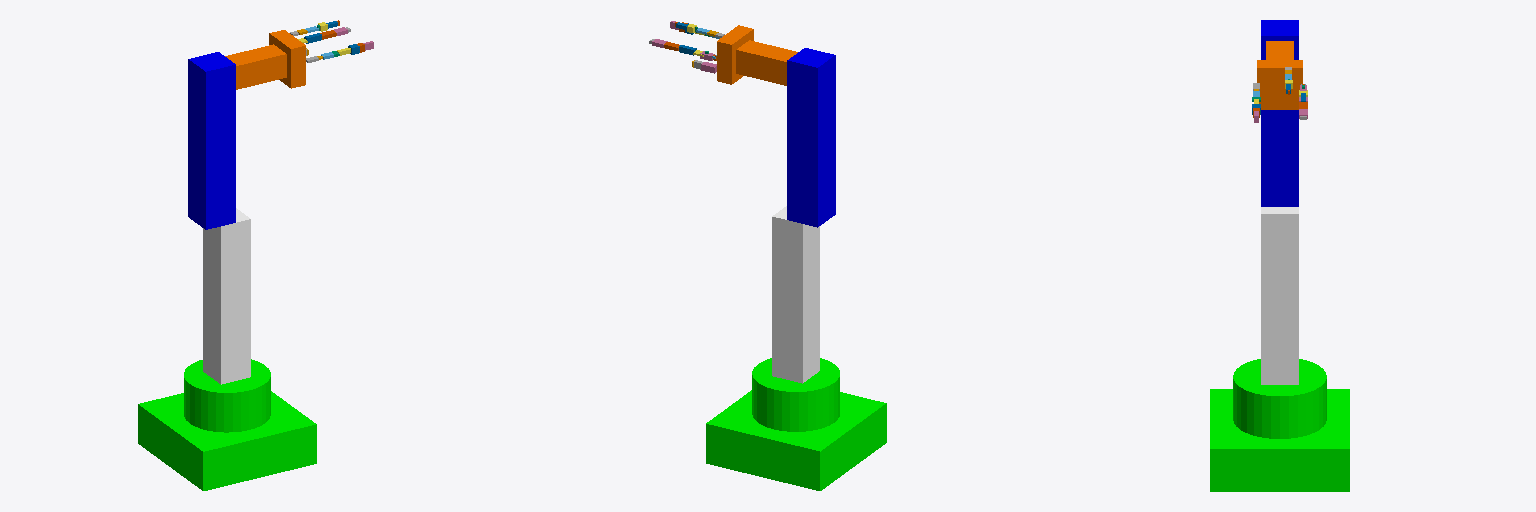
URDF robot description (robot):
<?xml version='1.0' encoding='utf-8'?>
<robot name="robot">
  <link name="base_link">
    <visual>
      <origin xyz="0 0 0.125" rpy="0 0 0" />
      <geometry>
        <box size="0.75 0.75 0.25" />
      </geometry>
      <material name="green" />
    </visual>
    <visual>
      <origin xyz="0 0 0.375" rpy="0 0 0" />
      <geometry>
        <cylinder length="0.25" radius="0.25" />
      </geometry>
      <material name="green">
        <color rgba="0 1 0 1" />
      </material>
    </visual>
    <collision>
      <geometry>
        <box size="0.75 0.75 0.5" />
      </geometry>
    </collision>
    <inertial>
      <mass value="0.5" />
      <inertia ixx="0.034" ixy="0.0" ixz="0.0" iyy="0.034" iyz="0.0" izz="0.034" />
    </inertial>
  </link>
  <link name="support_link">
    <visual>
      <origin xyz="0 0 0.5" rpy="0 0 0" />
      <geometry>
        <box size="0.2 0.2 1" />
      </geometry>
      <material name="white">
        <color rgba="1 1 1 1" />
      </material>
    </visual>
    <collision>
      <geometry>
        <box size="0.2 0.2 1" />
      </geometry>
    </collision>
    <inertial>
      <mass value="0.1" />
      <inertia ixx="0.01" ixy="0.0" ixz="0.0" iyy="0.01" iyz="0.0" izz="0.01" />
    </inertial>
  </link>
  <joint name="support_joint" type="continuous">
    <origin xyz="0 0 0.5" rpy="0 0 0" />
    <parent link="base_link" />
    <child link="support_link" />
    <axis xyz="0 0 1" />
  </joint>
  <link name="arm_link">
    <visual>
      <origin xyz="0 0 0.5" rpy="0 0 0" />
      <geometry>
        <box size="0.2 0.2 1" />
      </geometry>
      <material name="blue">
        <color rgba="0 0 1 1" />
      </material>
    </visual>
    <collision>
      <geometry>
        <box size="0.2 0.2 1" />
      </geometry>
    </collision>
    <inertial>
      <mass value="0.1" />
      <inertia ixx="0.01" ixy="0.0" ixz="0.0" iyy="0.01" iyz="0.0" izz="0.01" />
    </inertial>
  </link>
  <joint name="arm_joint" type="revolute">
    <origin xyz="-0.1 0 1" rpy="0 0 0" />
    <parent link="support_link" />
    <child link="arm_link" />
    <axis xyz="0 1 0" />
    <limit lower="-3.14" upper="3.14" effort="1.0" velocity="1.0" />
  </joint>
  <link name="wrist_link">
    <visual>
      <origin xyz="0 0 0.25" rpy="0 0 0" />
      <geometry>
        <box size="0.15 0.15 0.5" />
      </geometry>
      <material name="orange">
        <color rgba="1 0.5 0 1" />
      </material>
    </visual>
    <collision>
      <geometry>
        <box size="0.15 0.15 0.5" />
      </geometry>
    </collision>
    <inertial>
      <mass value="0.1" />
      <inertia ixx="0.01" ixy="0.0" ixz="0.0" iyy="0.01" iyz="0.0" izz="0.01" />
    </inertial>
  </link>
  <joint name="wrist_joint" type="fixed">
    <origin xyz="0 0 0.9" rpy="0 1.571 0" />
    <parent link="arm_link" />
    <child link="wrist_link" />
  </joint>
  <link name="palm_link">
    <visual>
      <origin xyz="0 0 0.05" rpy="0 0 0" />
      <geometry>
        <box size="0.25 0.25 0.1" />
      </geometry>
      <material name="orange" />
    </visual>
    <collision>
      <geometry>
        <box size="0.25 0.25 0.1" />
      </geometry>
    </collision>
    <inertial>
      <mass value="0.1" />
      <inertia ixx="0.01" ixy="0.0" ixz="0.0" iyy="0.01" iyz="0.0" izz="0.01" />
    </inertial>
  </link>
  <joint name="palm_joint" type="fixed">
    <origin xyz="0 0 0.45" rpy="0 0 0" />
    <parent link="wrist_link" />
    <child link="palm_link" />
  </joint>
  <link name="finger_link_0_0">
    <visual>
      <origin xyz="0 0 0.0105" rpy="0 0 0" />
      <geometry>
        <box size="0.029 0.011 0.021" />
      </geometry>
    </visual>
    <collision>
      <geometry>
        <box size="0.029 0.011 0.021" />
      </geometry>
    </collision>
    <inertial>
      <mass value="0.002" />
      <inertia ixx="0.0" iyy="0.0" izz="0.0" ixy="0" ixz="0" iyz="0" />
    </inertial>
  </link>
  <joint name="finger_joint_palm_link_to_finger_link_0_0" type="revolute">
    <origin xyz="-0.018 0.125 0.1" rpy="0 0 0" />
    <parent link="palm_link" />
    <child link="finger_link_0_0" />
    <axis xyz="-1.0 0.0 0.0" />
    <limit lower="-3.142" upper="3.142" effort="10" velocity="10" />
  </joint>
  <link name="finger_link_0_1">
    <visual>
      <origin xyz="0 0 0.037" rpy="0 0 0" />
      <geometry>
        <box size="0.031 0.037 0.074" />
      </geometry>
    </visual>
    <collision>
      <geometry>
        <box size="0.031 0.037 0.074" />
      </geometry>
    </collision>
    <inertial>
      <mass value="0.025" />
      <inertia ixx="0.0" iyy="0.0" izz="0.0" ixy="0" ixz="0" iyz="0" />
    </inertial>
  </link>
  <joint name="finger_joint_finger_link_0_0_to_finger_link_0_1" type="revolute">
    <origin xyz="0.0 0.0 0.021" rpy="0 0 0" />
    <parent link="finger_link_0_0" />
    <child link="finger_link_0_1" />
    <axis xyz="0.0 1.0 0.0" />
    <limit lower="-3.142" upper="3.142" effort="10" velocity="10" />
  </joint>
  <link name="finger_link_1_0">
    <visual>
      <origin xyz="0 0 0.037" rpy="0 0 0" />
      <geometry>
        <box size="0.015 0.037 0.074" />
      </geometry>
    </visual>
    <collision>
      <geometry>
        <box size="0.015 0.037 0.074" />
      </geometry>
    </collision>
    <inertial>
      <mass value="0.012" />
      <inertia ixx="0.0" iyy="0.0" izz="0.0" ixy="0" ixz="0" iyz="0" />
    </inertial>
  </link>
  <joint name="finger_joint_palm_link_to_finger_link_1_0" type="revolute">
    <origin xyz="-0.027 -0.125 0.1" rpy="0 0 0" />
    <parent link="palm_link" />
    <child link="finger_link_1_0" />
    <axis xyz="1.0 0.0 0.0" />
    <limit lower="-3.142" upper="3.142" effort="10" velocity="10" />
  </joint>
  <link name="finger_link_1_1">
    <visual>
      <origin xyz="0 0 0.0155" rpy="0 0 0" />
      <geometry>
        <box size="0.012 0.026 0.031" />
      </geometry>
    </visual>
    <collision>
      <geometry>
        <box size="0.012 0.026 0.031" />
      </geometry>
    </collision>
    <inertial>
      <mass value="0.003" />
      <inertia ixx="0.0" iyy="0.0" izz="0.0" ixy="0" ixz="0" iyz="0" />
    </inertial>
  </link>
  <joint name="finger_joint_finger_link_1_0_to_finger_link_1_1" type="revolute">
    <origin xyz="0.0 0.0 0.074" rpy="0 0 0" />
    <parent link="finger_link_1_0" />
    <child link="finger_link_1_1" />
    <axis xyz="1.0 0.0 0.0" />
    <limit lower="-3.142" upper="3.142" effort="10" velocity="10" />
  </joint>
  <link name="finger_link_1_2">
    <visual>
      <origin xyz="0 0 0.034" rpy="0 0 0" />
      <geometry>
        <box size="0.019 0.038 0.068" />
      </geometry>
    </visual>
    <collision>
      <geometry>
        <box size="0.019 0.038 0.068" />
      </geometry>
    </collision>
    <inertial>
      <mass value="0.015" />
      <inertia ixx="0.0" iyy="0.0" izz="0.0" ixy="0" ixz="0" iyz="0" />
    </inertial>
  </link>
  <joint name="finger_joint_finger_link_1_1_to_finger_link_1_2" type="revolute">
    <origin xyz="0.0 0.0 0.031" rpy="0 0 0" />
    <parent link="finger_link_1_1" />
    <child link="finger_link_1_2" />
    <axis xyz="0.0 1.0 0.0" />
    <limit lower="-3.142" upper="3.142" effort="10" velocity="10" />
  </joint>
  <link name="finger_link_1_3">
    <visual>
      <origin xyz="0 0 0.017" rpy="0 0 0" />
      <geometry>
        <box size="0.016 0.045 0.034" />
      </geometry>
    </visual>
    <collision>
      <geometry>
        <box size="0.016 0.045 0.034" />
      </geometry>
    </collision>
    <inertial>
      <mass value="0.007" />
      <inertia ixx="0.0" iyy="0.0" izz="0.0" ixy="0" ixz="0" iyz="0" />
    </inertial>
  </link>
  <joint name="finger_joint_finger_link_1_2_to_finger_link_1_3" type="revolute">
    <origin xyz="0.0 0.0 0.068" rpy="0 0 0" />
    <parent link="finger_link_1_2" />
    <child link="finger_link_1_3" />
    <axis xyz="0.0 1.0 0.0" />
    <limit lower="-3.142" upper="3.142" effort="10" velocity="10" />
  </joint>
  <link name="finger_link_1_4">
    <visual>
      <origin xyz="0 0 0.042" rpy="0 0 0" />
      <geometry>
        <box size="0.026 0.026 0.084" />
      </geometry>
    </visual>
    <collision>
      <geometry>
        <box size="0.026 0.026 0.084" />
      </geometry>
    </collision>
    <inertial>
      <mass value="0.017" />
      <inertia ixx="0.0" iyy="0.0" izz="0.0" ixy="0" ixz="0" iyz="0" />
    </inertial>
  </link>
  <joint name="finger_joint_finger_link_1_3_to_finger_link_1_4" type="revolute">
    <origin xyz="0.0 0.0 0.034" rpy="0 0 0" />
    <parent link="finger_link_1_3" />
    <child link="finger_link_1_4" />
    <axis xyz="1.0 0.0 0.0" />
    <limit lower="-3.142" upper="3.142" effort="10" velocity="10" />
  </joint>
  <link name="finger_link_1_5">
    <visual>
      <origin xyz="0 0 0.0245" rpy="0 0 0" />
      <geometry>
        <box size="0.043 0.043 0.049" />
      </geometry>
    </visual>
    <collision>
      <geometry>
        <box size="0.043 0.043 0.049" />
      </geometry>
    </collision>
    <inertial>
      <mass value="0.027" />
      <inertia ixx="0.0" iyy="0.0" izz="0.0" ixy="0" ixz="0" iyz="0" />
    </inertial>
  </link>
  <joint name="finger_joint_finger_link_1_4_to_finger_link_1_5" type="revolute">
    <origin xyz="0.0 0.0 0.084" rpy="0 0 0" />
    <parent link="finger_link_1_4" />
    <child link="finger_link_1_5" />
    <axis xyz="1.0 0.0 0.0" />
    <limit lower="-3.142" upper="3.142" effort="10" velocity="10" />
  </joint>
  <link name="finger_link_1_6">
    <visual>
      <origin xyz="0 0 0.019" rpy="0 0 0" />
      <geometry>
        <box size="0.044 0.036 0.038" />
      </geometry>
    </visual>
    <collision>
      <geometry>
        <box size="0.044 0.036 0.038" />
      </geometry>
    </collision>
    <inertial>
      <mass value="0.018" />
      <inertia ixx="0.0" iyy="0.0" izz="0.0" ixy="0" ixz="0" iyz="0" />
    </inertial>
  </link>
  <joint name="finger_joint_finger_link_1_5_to_finger_link_1_6" type="revolute">
    <origin xyz="0.0 0.0 0.049" rpy="0 0 0" />
    <parent link="finger_link_1_5" />
    <child link="finger_link_1_6" />
    <axis xyz="1.0 0.0 0.0" />
    <limit lower="-3.142" upper="3.142" effort="10" velocity="10" />
  </joint>
  <link name="finger_link_1_7">
    <visual>
      <origin xyz="0 0 0.032" rpy="0 0 0" />
      <geometry>
        <box size="0.04 0.022 0.064" />
      </geometry>
    </visual>
    <collision>
      <geometry>
        <box size="0.04 0.022 0.064" />
      </geometry>
    </collision>
    <inertial>
      <mass value="0.017" />
      <inertia ixx="0.0" iyy="0.0" izz="0.0" ixy="0" ixz="0" iyz="0" />
    </inertial>
  </link>
  <joint name="finger_joint_finger_link_1_6_to_finger_link_1_7" type="revolute">
    <origin xyz="0.0 0.0 0.038" rpy="0 0 0" />
    <parent link="finger_link_1_6" />
    <child link="finger_link_1_7" />
    <axis xyz="0.0 1.0 0.0" />
    <limit lower="-3.142" upper="3.142" effort="10" velocity="10" />
  </joint>
  <link name="finger_link_2_0">
    <visual>
      <origin xyz="0 0 0.0215" rpy="0 0 0" />
      <geometry>
        <box size="0.012 0.035 0.043" />
      </geometry>
    </visual>
    <collision>
      <geometry>
        <box size="0.012 0.035 0.043" />
      </geometry>
    </collision>
    <inertial>
      <mass value="0.005" />
      <inertia ixx="0.0" iyy="0.0" izz="0.0" ixy="0" ixz="0" iyz="0" />
    </inertial>
  </link>
  <joint name="finger_joint_palm_link_to_finger_link_2_0" type="revolute">
    <origin xyz="-0.125 0.046 0.1" rpy="0 0 0" />
    <parent link="palm_link" />
    <child link="finger_link_2_0" />
    <axis xyz="0.0 -1.0 0.0" />
    <limit lower="-3.142" upper="3.142" effort="10" velocity="10" />
  </joint>
  <link name="finger_link_2_1">
    <visual>
      <origin xyz="0 0 0.027" rpy="0 0 0" />
      <geometry>
        <box size="0.014 0.039 0.054" />
      </geometry>
    </visual>
    <collision>
      <geometry>
        <box size="0.014 0.039 0.054" />
      </geometry>
    </collision>
    <inertial>
      <mass value="0.009" />
      <inertia ixx="0.0" iyy="0.0" izz="0.0" ixy="0" ixz="0" iyz="0" />
    </inertial>
  </link>
  <joint name="finger_joint_finger_link_2_0_to_finger_link_2_1" type="revolute">
    <origin xyz="0.0 0.0 0.043" rpy="0 0 0" />
    <parent link="finger_link_2_0" />
    <child link="finger_link_2_1" />
    <axis xyz="1.0 0.0 0.0" />
    <limit lower="-3.142" upper="3.142" effort="10" velocity="10" />
  </joint>
  <link name="finger_link_2_2">
    <visual>
      <origin xyz="0 0 0.0365" rpy="0 0 0" />
      <geometry>
        <box size="0.013 0.037 0.073" />
      </geometry>
    </visual>
    <collision>
      <geometry>
        <box size="0.013 0.037 0.073" />
      </geometry>
    </collision>
    <inertial>
      <mass value="0.011" />
      <inertia ixx="0.0" iyy="0.0" izz="0.0" ixy="0" ixz="0" iyz="0" />
    </inertial>
  </link>
  <joint name="finger_joint_finger_link_2_1_to_finger_link_2_2" type="revolute">
    <origin xyz="0.0 0.0 0.054" rpy="0 0 0" />
    <parent link="finger_link_2_1" />
    <child link="finger_link_2_2" />
    <axis xyz="0.0 1.0 0.0" />
    <limit lower="-3.142" upper="3.142" effort="10" velocity="10" />
  </joint>
  <link name="finger_link_2_3">
    <visual>
      <origin xyz="0 0 0.0075" rpy="0 0 0" />
      <geometry>
        <box size="0.032 0.011 0.015" />
      </geometry>
    </visual>
    <collision>
      <geometry>
        <box size="0.032 0.011 0.015" />
      </geometry>
    </collision>
    <inertial>
      <mass value="0.002" />
      <inertia ixx="0.0" iyy="0.0" izz="0.0" ixy="0" ixz="0" iyz="0" />
    </inertial>
  </link>
  <joint name="finger_joint_finger_link_2_2_to_finger_link_2_3" type="revolute">
    <origin xyz="0.0 0.0 0.073" rpy="0 0 0" />
    <parent link="finger_link_2_2" />
    <child link="finger_link_2_3" />
    <axis xyz="1.0 0.0 0.0" />
    <limit lower="-3.142" upper="3.142" effort="10" velocity="10" />
  </joint>
  <link name="finger_link_2_4">
    <visual>
      <origin xyz="0 0 0.022" rpy="0 0 0" />
      <geometry>
        <box size="0.035 0.042 0.044" />
      </geometry>
    </visual>
    <collision>
      <geometry>
        <box size="0.035 0.042 0.044" />
      </geometry>
    </collision>
    <inertial>
      <mass value="0.019" />
      <inertia ixx="0.0" iyy="0.0" izz="0.0" ixy="0" ixz="0" iyz="0" />
    </inertial>
  </link>
  <joint name="finger_joint_finger_link_2_3_to_finger_link_2_4" type="revolute">
    <origin xyz="0.0 0.0 0.015" rpy="0 0 0" />
    <parent link="finger_link_2_3" />
    <child link="finger_link_2_4" />
    <axis xyz="0.0 1.0 0.0" />
    <limit lower="-3.142" upper="3.142" effort="10" velocity="10" />
  </joint>
  <link name="finger_link_2_5">
    <visual>
      <origin xyz="0 0 0.037" rpy="0 0 0" />
      <geometry>
        <box size="0.023 0.029 0.074" />
      </geometry>
    </visual>
    <collision>
      <geometry>
        <box size="0.023 0.029 0.074" />
      </geometry>
    </collision>
    <inertial>
      <mass value="0.015" />
      <inertia ixx="0.0" iyy="0.0" izz="0.0" ixy="0" ixz="0" iyz="0" />
    </inertial>
  </link>
  <joint name="finger_joint_finger_link_2_4_to_finger_link_2_5" type="revolute">
    <origin xyz="0.0 0.0 0.044" rpy="0 0 0" />
    <parent link="finger_link_2_4" />
    <child link="finger_link_2_5" />
    <axis xyz="1.0 0.0 0.0" />
    <limit lower="-3.142" upper="3.142" effort="10" velocity="10" />
  </joint>
  <link name="finger_link_2_6">
    <visual>
      <origin xyz="0 0 0.006" rpy="0 0 0" />
      <geometry>
        <box size="0.027 0.012 0.012" />
      </geometry>
    </visual>
    <collision>
      <geometry>
        <box size="0.027 0.012 0.012" />
      </geometry>
    </collision>
    <inertial>
      <mass value="0.001" />
      <inertia ixx="0.0" iyy="0.0" izz="0.0" ixy="0" ixz="0" iyz="0" />
    </inertial>
  </link>
  <joint name="finger_joint_finger_link_2_5_to_finger_link_2_6" type="revolute">
    <origin xyz="0.0 0.0 0.074" rpy="0 0 0" />
    <parent link="finger_link_2_5" />
    <child link="finger_link_2_6" />
    <axis xyz="0.0 1.0 0.0" />
    <limit lower="-3.142" upper="3.142" effort="10" velocity="10" />
  </joint>
  <link name="finger_link_3_0">
    <visual>
      <origin xyz="0 0 0.0445" rpy="0 0 0" />
      <geometry>
        <box size="0.038 0.044 0.089" />
      </geometry>
    </visual>
    <collision>
      <geometry>
        <box size="0.038 0.044 0.089" />
      </geometry>
    </collision>
    <inertial>
      <mass value="0.045" />
      <inertia ixx="0.0" iyy="0.0" izz="0.0" ixy="0" ixz="0" iyz="0" />
    </inertial>
  </link>
  <joint name="finger_joint_palm_link_to_finger_link_3_0" type="revolute">
    <origin xyz="0.05 0.125 0.1" rpy="0 0 0" />
    <parent link="palm_link" />
    <child link="finger_link_3_0" />
    <axis xyz="-1.0 0.0 0.0" />
    <limit lower="-3.142" upper="3.142" effort="10" velocity="10" />
  </joint>
  <link name="finger_link_3_1">
    <visual>
      <origin xyz="0 0 0.0265" rpy="0 0 0" />
      <geometry>
        <box size="0.039 0.028 0.053" />
      </geometry>
    </visual>
    <collision>
      <geometry>
        <box size="0.039 0.028 0.053" />
      </geometry>
    </collision>
    <inertial>
      <mass value="0.017" />
      <inertia ixx="0.0" iyy="0.0" izz="0.0" ixy="0" ixz="0" iyz="0" />
    </inertial>
  </link>
  <joint name="finger_joint_finger_link_3_0_to_finger_link_3_1" type="revolute">
    <origin xyz="0.0 0.0 0.089" rpy="0 0 0" />
    <parent link="finger_link_3_0" />
    <child link="finger_link_3_1" />
    <axis xyz="0.0 1.0 0.0" />
    <limit lower="-3.142" upper="3.142" effort="10" velocity="10" />
  </joint>
  <link name="finger_link_3_2">
    <visual>
      <origin xyz="0 0 0.0055" rpy="0 0 0" />
      <geometry>
        <box size="0.033 0.032 0.011" />
      </geometry>
    </visual>
    <collision>
      <geometry>
        <box size="0.033 0.032 0.011" />
      </geometry>
    </collision>
    <inertial>
      <mass value="0.003" />
      <inertia ixx="0.0" iyy="0.0" izz="0.0" ixy="0" ixz="0" iyz="0" />
    </inertial>
  </link>
  <joint name="finger_joint_finger_link_3_1_to_finger_link_3_2" type="revolute">
    <origin xyz="0.0 0.0 0.053" rpy="0 0 0" />
    <parent link="finger_link_3_1" />
    <child link="finger_link_3_2" />
    <axis xyz="0.0 1.0 0.0" />
    <limit lower="-3.142" upper="3.142" effort="10" velocity="10" />
  </joint>
  <link name="finger_link_4_0">
    <visual>
      <origin xyz="0 0 0.0255" rpy="0 0 0" />
      <geometry>
        <box size="0.012 0.024 0.051" />
      </geometry>
    </visual>
    <collision>
      <geometry>
        <box size="0.012 0.024 0.051" />
      </geometry>
    </collision>
    <inertial>
      <mass value="0.004" />
      <inertia ixx="0.0" iyy="0.0" izz="0.0" ixy="0" ixz="0" iyz="0" />
    </inertial>
  </link>
  <joint name="finger_joint_palm_link_to_finger_link_4_0" type="revolute">
    <origin xyz="-0.025 0.125 0.1" rpy="0 0 0" />
    <parent link="palm_link" />
    <child link="finger_link_4_0" />
    <axis xyz="-1.0 0.0 0.0" />
    <limit lower="-3.142" upper="3.142" effort="10" velocity="10" />
  </joint>
  <link name="finger_link_4_1">
    <visual>
      <origin xyz="0 0 0.0115" rpy="0 0 0" />
      <geometry>
        <box size="0.045 0.012 0.023" />
      </geometry>
    </visual>
    <collision>
      <geometry>
        <box size="0.045 0.012 0.023" />
      </geometry>
    </collision>
    <inertial>
      <mass value="0.004" />
      <inertia ixx="0.0" iyy="0.0" izz="0.0" ixy="0" ixz="0" iyz="0" />
    </inertial>
  </link>
  <joint name="finger_joint_finger_link_4_0_to_finger_link_4_1" type="revolute">
    <origin xyz="0.0 0.0 0.051" rpy="0 0 0" />
    <parent link="finger_link_4_0" />
    <child link="finger_link_4_1" />
    <axis xyz="1.0 0.0 0.0" />
    <limit lower="-3.142" upper="3.142" effort="10" velocity="10" />
  </joint>
  <link name="finger_link_4_2">
    <visual>
      <origin xyz="0 0 0.0325" rpy="0 0 0" />
      <geometry>
        <box size="0.011 0.046 0.065" />
      </geometry>
    </visual>
    <collision>
      <geometry>
        <box size="0.011 0.046 0.065" />
      </geometry>
    </collision>
    <inertial>
      <mass value="0.01" />
      <inertia ixx="0.0" iyy="0.0" izz="0.0" ixy="0" ixz="0" iyz="0" />
    </inertial>
  </link>
  <joint name="finger_joint_finger_link_4_1_to_finger_link_4_2" type="revolute">
    <origin xyz="0.0 0.0 0.023" rpy="0 0 0" />
    <parent link="finger_link_4_1" />
    <child link="finger_link_4_2" />
    <axis xyz="1.0 0.0 0.0" />
    <limit lower="-3.142" upper="3.142" effort="10" velocity="10" />
  </joint>
  <link name="finger_link_4_3">
    <visual>
      <origin xyz="0 0 0.05" rpy="0 0 0" />
      <geometry>
        <box size="0.035 0.029 0.1" />
      </geometry>
    </visual>
    <collision>
      <geometry>
        <box size="0.035 0.029 0.1" />
      </geometry>
    </collision>
    <inertial>
      <mass value="0.03" />
      <inertia ixx="0.0" iyy="0.0" izz="0.0" ixy="0" ixz="0" iyz="0" />
    </inertial>
  </link>
  <joint name="finger_joint_finger_link_4_2_to_finger_link_4_3" type="revolute">
    <origin xyz="0.0 0.0 0.065" rpy="0 0 0" />
    <parent link="finger_link_4_2" />
    <child link="finger_link_4_3" />
    <axis xyz="1.0 0.0 0.0" />
    <limit lower="-3.142" upper="3.142" effort="10" velocity="10" />
  </joint>
  <link name="finger_link_4_4">
    <visual>
      <origin xyz="0 0 0.047" rpy="0 0 0" />
      <geometry>
        <box size="0.023 0.043 0.094" />
      </geometry>
    </visual>
    <collision>
      <geometry>
        <box size="0.023 0.043 0.094" />
      </geometry>
    </collision>
    <inertial>
      <mass value="0.028" />
      <inertia ixx="0.0" iyy="0.0" izz="0.0" ixy="0" ixz="0" iyz="0" />
    </inertial>
  </link>
  <joint name="finger_joint_finger_link_4_3_to_finger_link_4_4" type="revolute">
    <origin xyz="0.0 0.0 0.1" rpy="0 0 0" />
    <parent link="finger_link_4_3" />
    <child link="finger_link_4_4" />
    <axis xyz="0.0 1.0 0.0" />
    <limit lower="-3.142" upper="3.142" effort="10" velocity="10" />
  </joint>
  <link name="finger_link_4_5">
    <visual>
      <origin xyz="0 0 0.038" rpy="0 0 0" />
      <geometry>
        <box size="0.023 0.048 0.076" />
      </geometry>
    </visual>
    <collision>
      <geometry>
        <box size="0.023 0.048 0.076" />
      </geometry>
    </collision>
    <inertial>
      <mass value="0.025" />
      <inertia ixx="0.0" iyy="0.0" izz="0.0" ixy="0" ixz="0" iyz="0" />
    </inertial>
  </link>
  <joint name="finger_joint_finger_link_4_4_to_finger_link_4_5" type="revolute">
    <origin xyz="0.0 0.0 0.094" rpy="0 0 0" />
    <parent link="finger_link_4_4" />
    <child link="finger_link_4_5" />
    <axis xyz="0.0 1.0 0.0" />
    <limit lower="-3.142" upper="3.142" effort="10" velocity="10" />
  </joint>
  <link name="finger_link_4_6">
    <visual>
      <origin xyz="0 0 0.01" rpy="0 0 0" />
      <geometry>
        <box size="0.018 0.035 0.02" />
      </geometry>
    </visual>
    <collision>
      <geometry>
        <box size="0.018 0.035 0.02" />
      </geometry>
    </collision>
    <inertial>
      <mass value="0.004" />
      <inertia ixx="0.0" iyy="0.0" izz="0.0" ixy="0" ixz="0" iyz="0" />
    </inertial>
  </link>
  <joint name="finger_joint_finger_link_4_5_to_finger_link_4_6" type="revolute">
    <origin xyz="0.0 0.0 0.076" rpy="0 0 0" />
    <parent link="finger_link_4_5" />
    <child link="finger_link_4_6" />
    <axis xyz="0.0 1.0 0.0" />
    <limit lower="-3.142" upper="3.142" effort="10" velocity="10" />
  </joint>
</robot>

--- Render facts (derived) ---
Views: 3 orthographic renders of the robot side by side, from view 1: azimuth 30°, elevation 25°; view 2: azimuth 150°, elevation 25°; view 3: azimuth 270°, elevation 25°.
Model robot with 32 links and 31 joints (28 revolute, 1 continuous, 2 fixed), rooted at base_link, posed every joint at zero.
Visible links, largest first — view 1: base_link, arm_link, support_link, wrist_link, palm_link; view 2: base_link, arm_link, support_link, wrist_link, palm_link; view 3: base_link, support_link, arm_link, palm_link, wrist_link.
Link boxes in pixels (<box>): base_link: <box>138,359,316,490</box>; arm_link: <box>188,52,235,229</box>; support_link: <box>203,208,250,384</box>; wrist_link: <box>225,44,286,89</box>; palm_link: <box>269,30,305,88</box>; base_link: <box>706,358,886,490</box>; arm_link: <box>787,48,835,227</box>; support_link: <box>772,206,819,383</box>; wrist_link: <box>736,40,797,85</box>; palm_link: <box>717,25,753,84</box>; base_link: <box>1210,359,1349,491</box>; support_link: <box>1261,207,1298,384</box>; arm_link: <box>1261,20,1298,206</box>; palm_link: <box>1257,60,1302,109</box>; wrist_link: <box>1266,41,1293,59</box>.
Bounding box of the posed robot: 1.27 × 0.75 × 2.54 m (x, y, z).
Geometry: primitives only (box / cylinder / sphere), no mesh files.